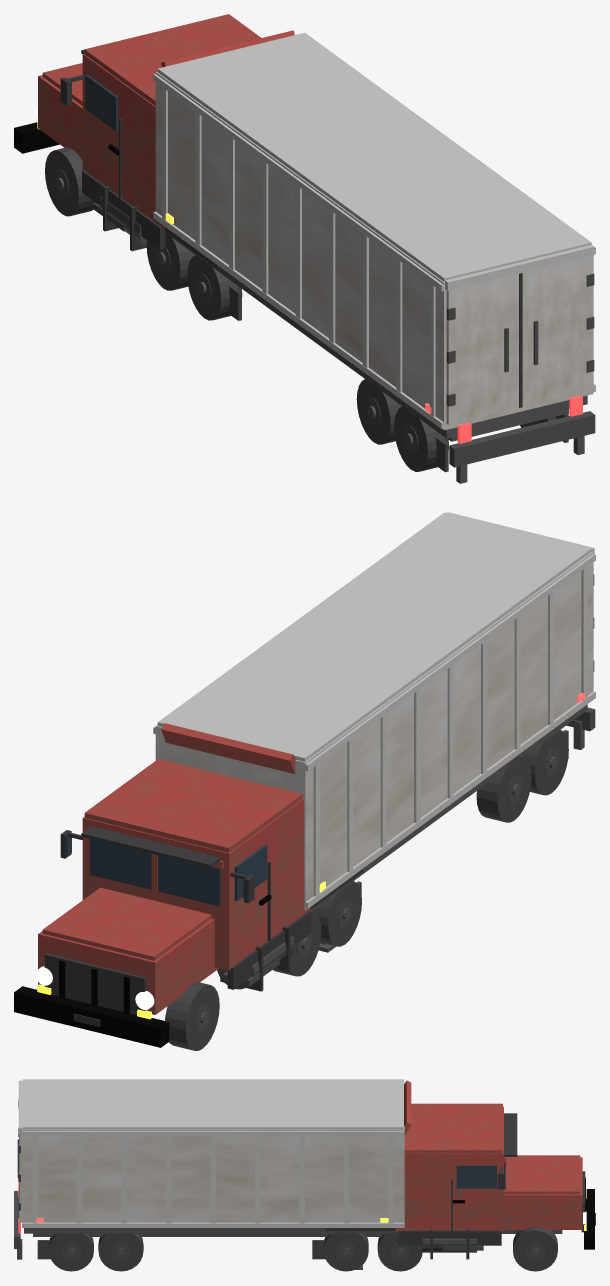
The model's file is semi.glb.
3 renders of one model, top to bottom at view 1: azimuth 30°, elevation 25°; view 2: azimuth 150°, elevation 25°; view 3: azimuth 270°, elevation 25°, orthographic. The views are drawn at different scales.
Visible parts, largest first — view 1: TrailerRoof, TrailerBox, RearDoor_L, RearDoor_R, CabMain, RoofCap, ICCBar, TrailerFloor, TopRail_L, BottomRail_L, Hood, Steer_L_Tire (+19 smaller); view 2: TrailerRoof, TrailerBox, RoofCap, CabMain, HoodTop, Hood, FrontBumper, Grille, RoofFairing, TopRail_L, Steer_L_Tire, BottomRail_L (+19 smaller); view 3: TrailerBox, TrailerRoof, CabMain, RoofCap, HoodTop, Hood, BottomRail_R, TrailerFloor, TopRail_R, Steer_R_Tire, Drive2_R_Tire, Trailer1_R_Tire (+19 smaller).
Boxes of the visible parts, box(x1,y1,x2,y2) form: TrailerRoof: box(157, 32, 591, 281); TrailerBox: box(155, 71, 593, 430); RearDoor_L: box(446, 274, 518, 424); RearDoor_R: box(522, 256, 592, 406); CabMain: box(82, 53, 164, 230); RoofCap: box(84, 14, 260, 105); ICCBar: box(449, 411, 595, 467); TrailerFloor: box(165, 230, 587, 438); TopRail_L: box(153, 74, 443, 291); BottomRail_L: box(153, 211, 444, 429); Hood: box(38, 75, 82, 160); Steer_L_Tire: box(45, 147, 95, 216); TrailerRoof: box(157, 512, 591, 761); TrailerBox: box(155, 551, 593, 910); RoofCap: box(84, 759, 302, 852); CabMain: box(82, 799, 310, 970); HoodTop: box(42, 887, 211, 960); Hood: box(38, 919, 218, 1014); FrontBumper: box(14, 986, 169, 1047); Grille: box(44, 953, 146, 1015); RoofFairing: box(161, 723, 295, 773); TopRail_L: box(305, 553, 595, 771); Steer_L_Tire: box(165, 982, 219, 1050); BottomRail_L: box(305, 691, 595, 908); TrailerBox: box(22, 1081, 404, 1227); TrailerRoof: box(22, 1079, 403, 1129); CabMain: box(395, 1106, 503, 1231); RoofCap: box(404, 1103, 502, 1153); HoodTop: box(504, 1155, 580, 1194); Hood: box(504, 1157, 582, 1229); BottomRail_R: box(22, 1222, 404, 1227); TrailerFloor: box(24, 1228, 397, 1233); TopRail_R: box(22, 1131, 404, 1135); Steer_R_Tire: box(513, 1227, 557, 1271); Drive2_R_Tire: box(323, 1231, 368, 1271); Trailer1_R_Tire: box(98, 1232, 143, 1271).
Bounding box in the file's own units: 3.2 × 3.61 × 12.92.
13 materials, 13 textured.
